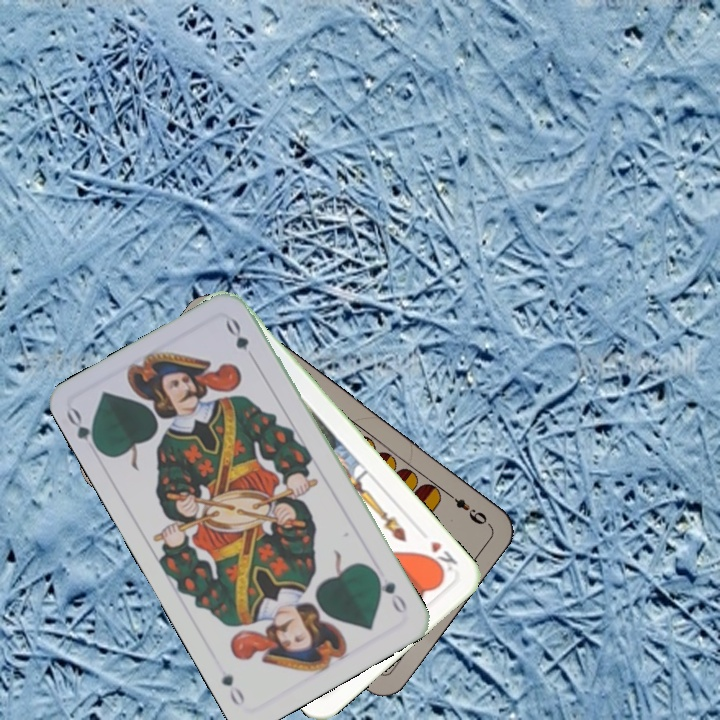E9: (441, 487, 490, 528)
GO: (62, 404, 106, 456), (370, 566, 410, 616)
HK: (422, 536, 460, 578)
